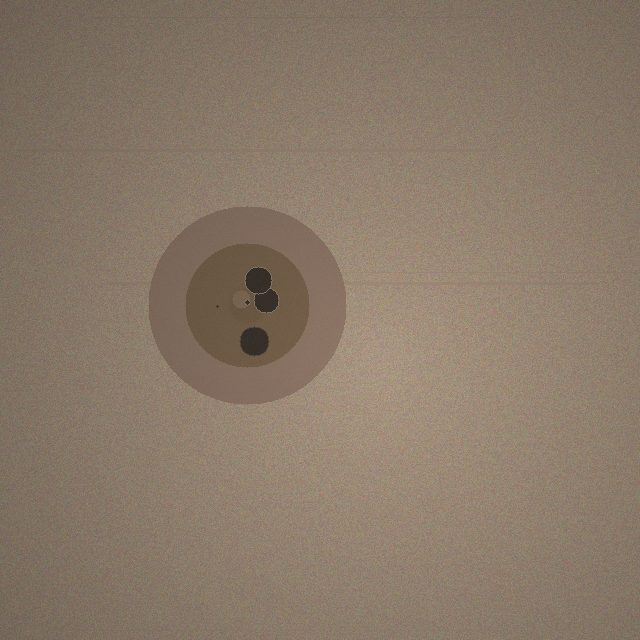shrinkage: (148, 206, 346, 404)
